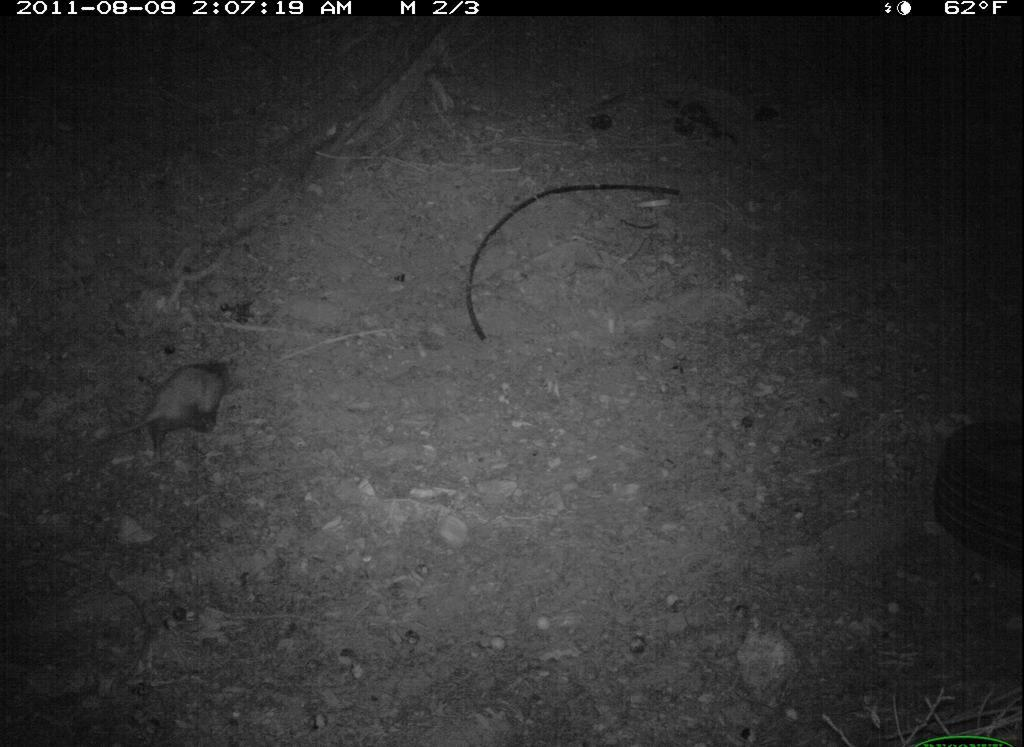opossum: (107, 353, 257, 464)
